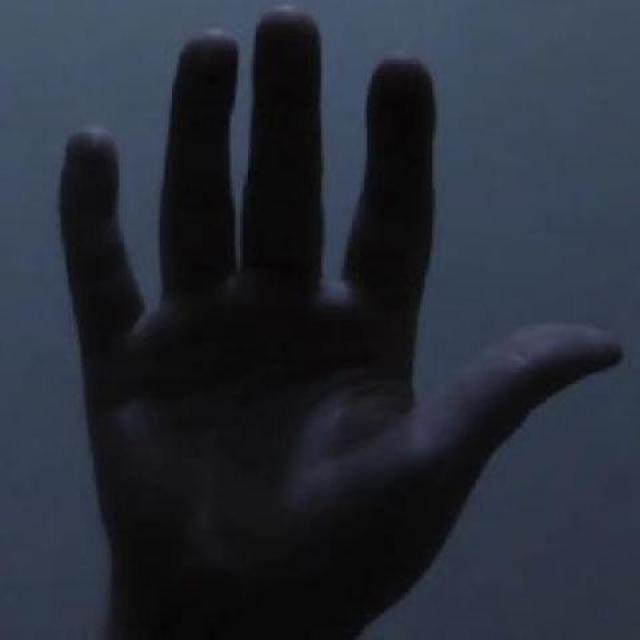Open Hand: (48, 4, 631, 640)
